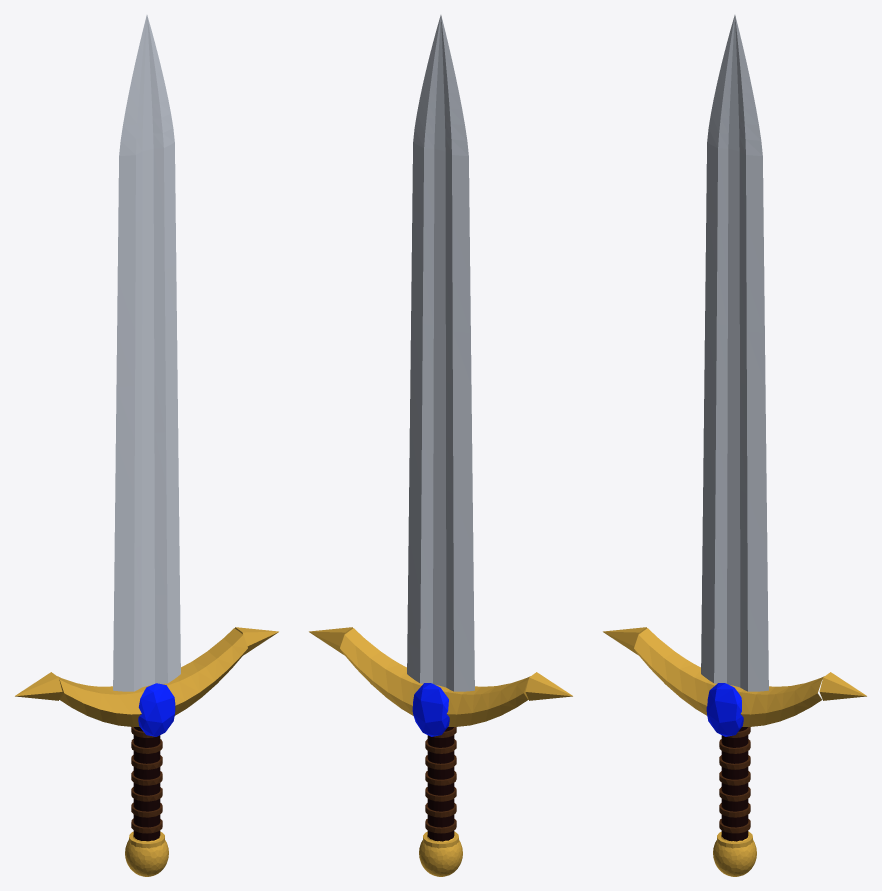
The model's file is sword_0.glb.
3 views of the same model, side by side, from view 1: azimuth 30°, elevation 25°; view 2: azimuth 150°, elevation 25°; view 3: azimuth 330°, elevation 25° (orthographic).
Parts seen in each view (by area): view 1: blade_0, guard_0, grip_0, gem_0, pommel_0; view 2: blade_0, guard_0, grip_0, gem_1, pommel_0; view 3: blade_0, guard_0, grip_0, gem_0, pommel_0.
Boxes of the visible parts, x1,y1,x2,y2 form: blade_0: (113,15,180,691); guard_0: (15,627,278,726); grip_0: (133,727,160,841); gem_0: (138,683,175,736); pommel_0: (125,835,168,876); blade_0: (407,15,474,691); guard_0: (309,627,572,726); grip_0: (427,727,454,841); gem_1: (412,683,449,736); pommel_0: (419,835,462,876); blade_0: (701,15,768,691); guard_0: (603,627,866,726); grip_0: (721,727,748,841); gem_0: (706,683,743,736); pommel_0: (713,835,756,876).
Bounding box in the file's own units: 0.39 × 1.21 × 0.0786.
